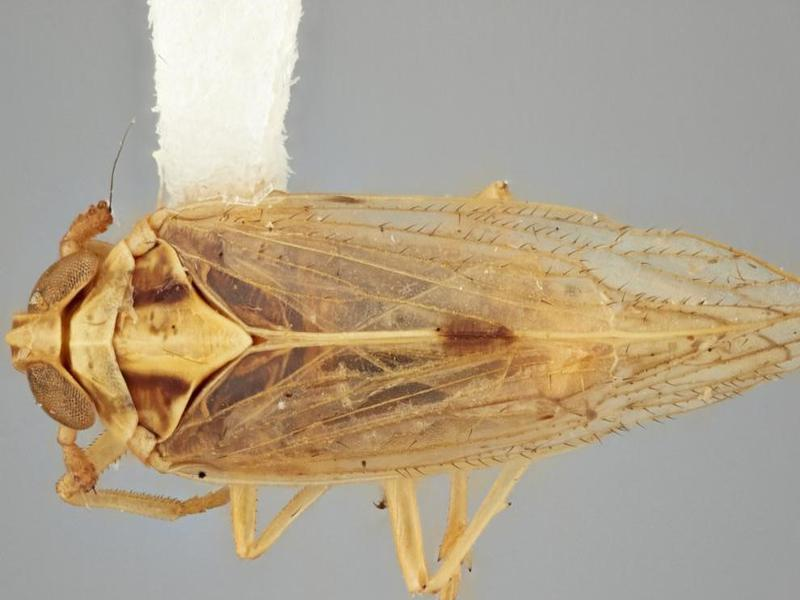White_backed_plant_hopper: (17, 183, 799, 539)
